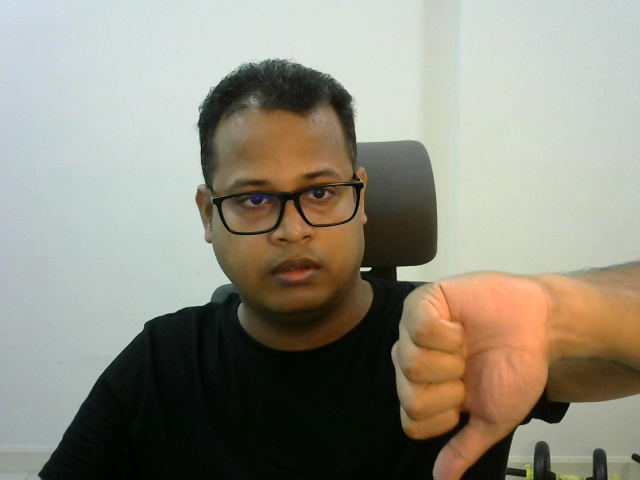ThumbsDown: (389, 274, 549, 480)
